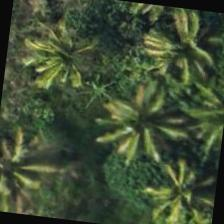Kelapa_Sawit: (12, 5, 113, 106), (90, 74, 190, 174), (131, 3, 223, 96), (130, 140, 220, 223), (0, 120, 68, 218)
